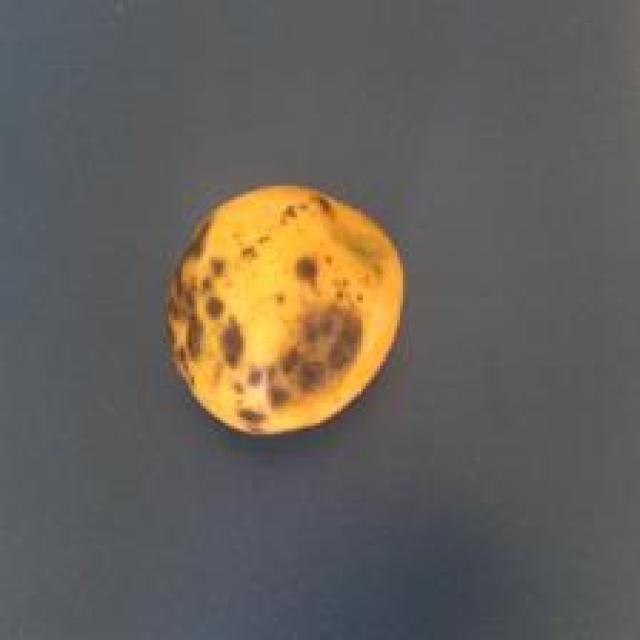black spot: (158, 178, 410, 440)
